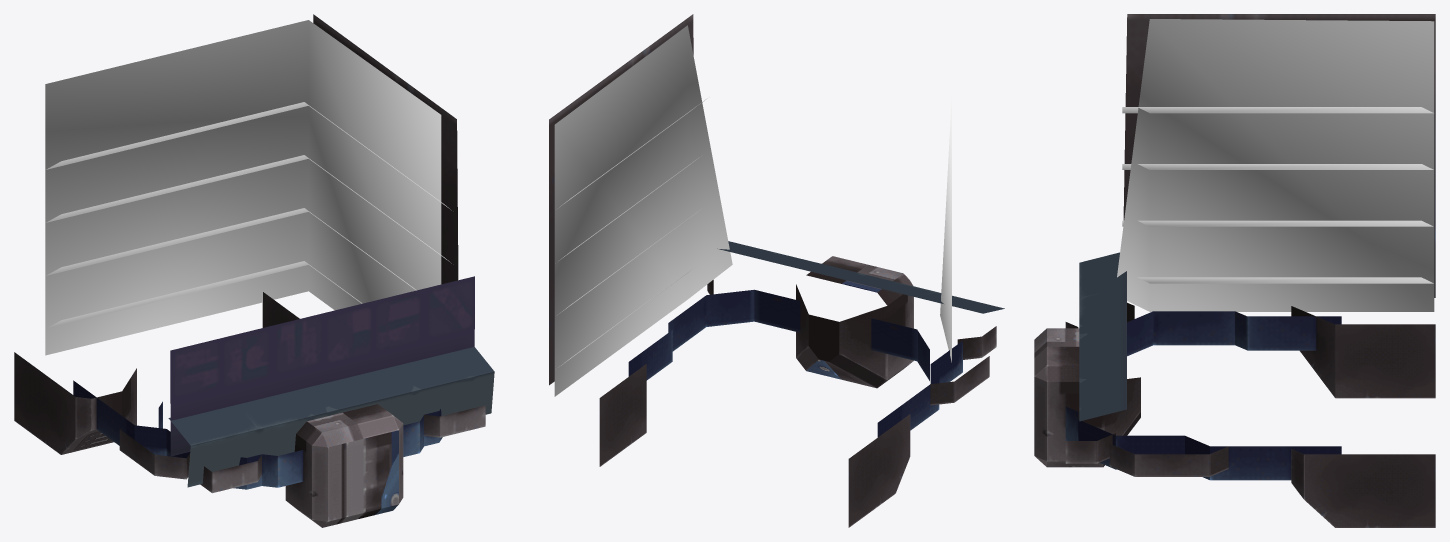
The model's file is guildhall_doorway.glb.
The picture shows the model from 3 angles, left to right: view 1: azimuth 30°, elevation 25°; view 2: azimuth 150°, elevation 25°; view 3: azimuth 270°, elevation 25°; orthographic projection. The views are drawn at different scales.
Parts seen in each view (by area): view 1: guildhall.guildhall_doorway-Mesh[4], guildhall.guildhall_doorway-Mesh[6], guildhall.guildhall_doorway-Mesh[2], guildhall.guildhall_doorway-Mesh[1]; view 2: guildhall.guildhall_doorway-Mesh[4], guildhall.guildhall_doorway-Mesh[6], guildhall.guildhall_doorway-Mesh[1]; view 3: guildhall.guildhall_doorway-Mesh[4], guildhall.guildhall_doorway-Mesh[6], guildhall.guildhall_doorway-Mesh[1].
Boxes of the visible parts, x1,y1,x2,y2 form: guildhall.guildhall_doorway-Mesh[4]: (45,20,451,355); guildhall.guildhall_doorway-Mesh[6]: (14,14,485,527); guildhall.guildhall_doorway-Mesh[2]: (170,276,474,456); guildhall.guildhall_doorway-Mesh[1]: (168,347,494,487); guildhall.guildhall_doorway-Mesh[4]: (554,25,951,396); guildhall.guildhall_doorway-Mesh[6]: (549,14,996,527); guildhall.guildhall_doorway-Mesh[1]: (717,241,1004,313); guildhall.guildhall_doorway-Mesh[4]: (1117,19,1434,311); guildhall.guildhall_doorway-Mesh[6]: (1034,14,1435,527); guildhall.guildhall_doorway-Mesh[1]: (1079,252,1126,421).
Bounding box in the file's own units: 3.2 × 3.2 × 3.2.
6 materials, 5 textured.
